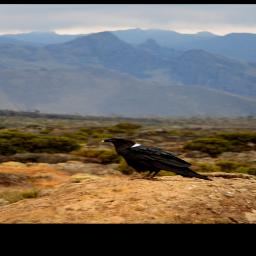Crow: (99, 136, 216, 183)
